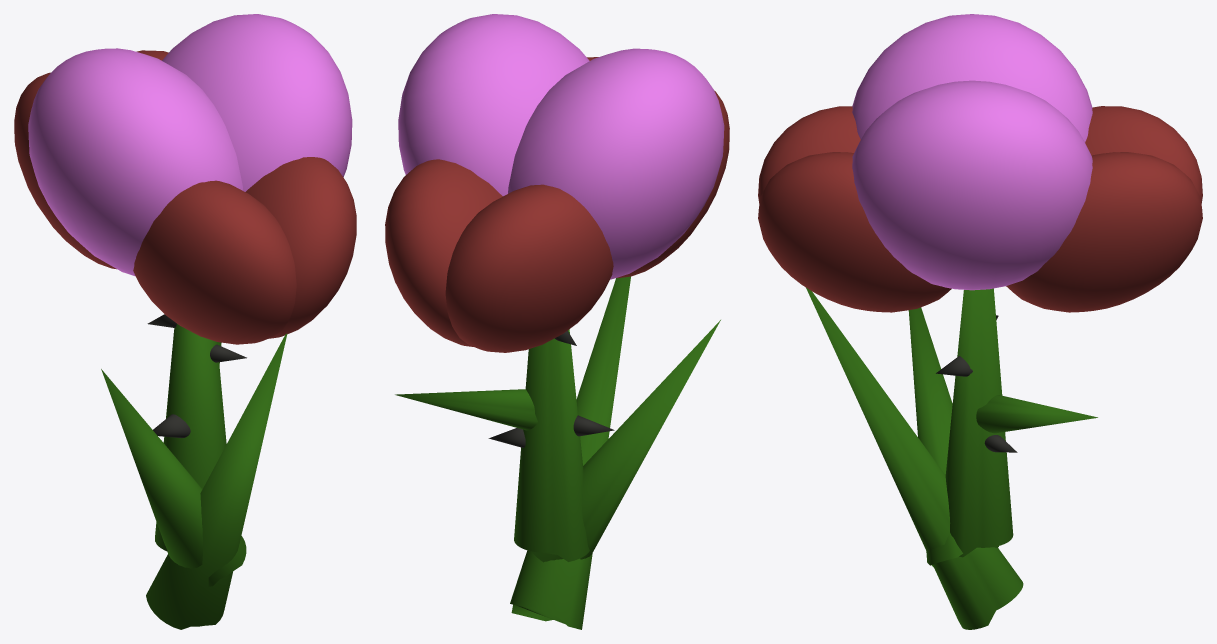
File: Plant2.glb
3 views of the same model, side by side, from view 1: azimuth 30°, elevation 25°; view 2: azimuth 150°, elevation 25°; view 3: azimuth 270°, elevation 25° (orthographic). The views are drawn at different scales.
Visible parts, largest first — view 1: Sphere, Sphere.001, Sphere.002, Cone.005, Sphere.003, Cone.006, Cone, Sphere.005, Cone.002; view 2: Sphere, Sphere.005, Sphere.001, Cone, Sphere.004, Cone.005, Cone.006, Cone.007, Sphere.002, Cone.002; view 3: Sphere.001, Sphere.004, Sphere.003, Sphere, Cone.005, Cone, Cone.006, Sphere.005, Sphere.002, Cone.007.
Part boxes in pixels (x1,y1,x2,y2): Sphere: [28, 48, 242, 276]; Sphere.001: [162, 14, 352, 191]; Sphere.002: [133, 180, 296, 344]; Cone.005: [146, 333, 287, 629]; Sphere.003: [245, 157, 356, 338]; Cone.006: [101, 369, 246, 586]; Cone: [155, 324, 226, 551]; Sphere.005: [14, 72, 116, 269]; Cone.002: [153, 414, 190, 438]; Sphere: [508, 48, 724, 279]; Sphere.005: [445, 184, 613, 352]; Sphere.001: [398, 14, 589, 196]; Cone: [514, 329, 589, 561]; Sphere.004: [385, 159, 502, 346]; Cone.005: [510, 276, 630, 629]; Cone.006: [531, 320, 720, 562]; Cone.007: [395, 389, 537, 430]; Sphere.002: [617, 90, 729, 278]; Cone.002: [573, 415, 614, 436]; Sphere.001: [852, 80, 1092, 290]; Sphere.004: [1006, 152, 1202, 312]; Sphere.003: [758, 152, 951, 312]; Sphere: [852, 14, 1092, 142]; Cone.005: [806, 287, 1023, 629]; Cone: [945, 288, 1013, 557]; Cone.006: [908, 307, 998, 567]; Sphere.005: [1085, 106, 1202, 203]; Sphere.002: [758, 106, 860, 203]; Cone.007: [976, 395, 1097, 433].
Bounding box in the file's own units: 2.54 × 4.99 × 3.57.
